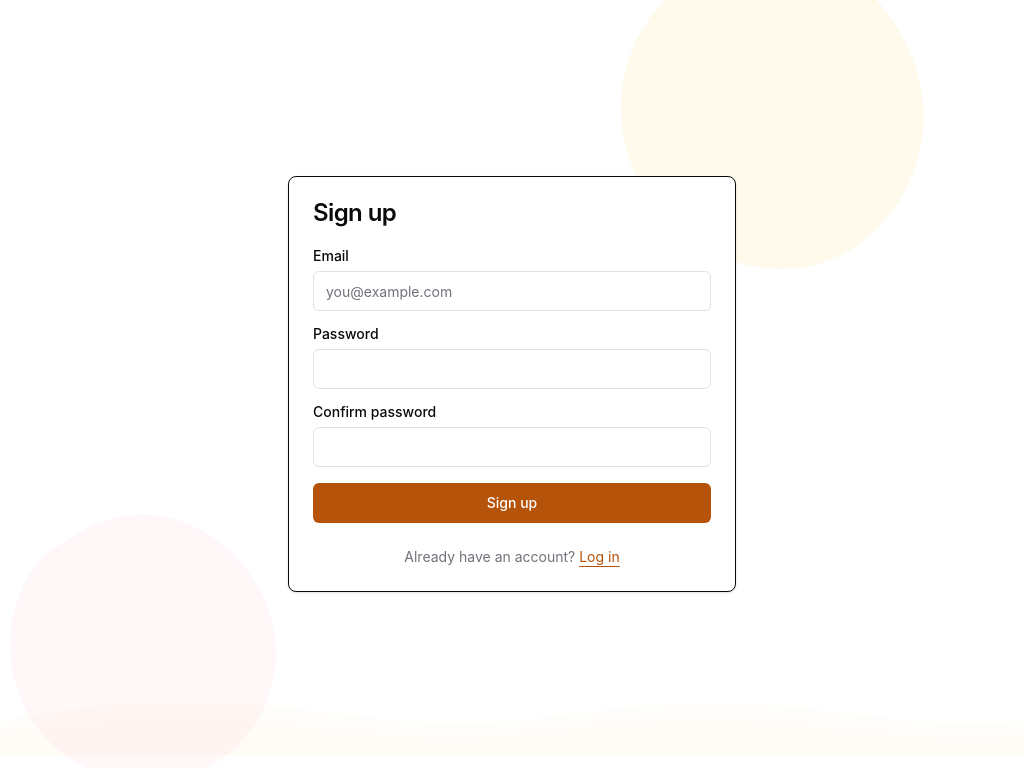
SignupView › shows error when passwords do not match
Type "test@test.com" into the field with id "signup-email" at [512, 291], box [313,271,711,311]
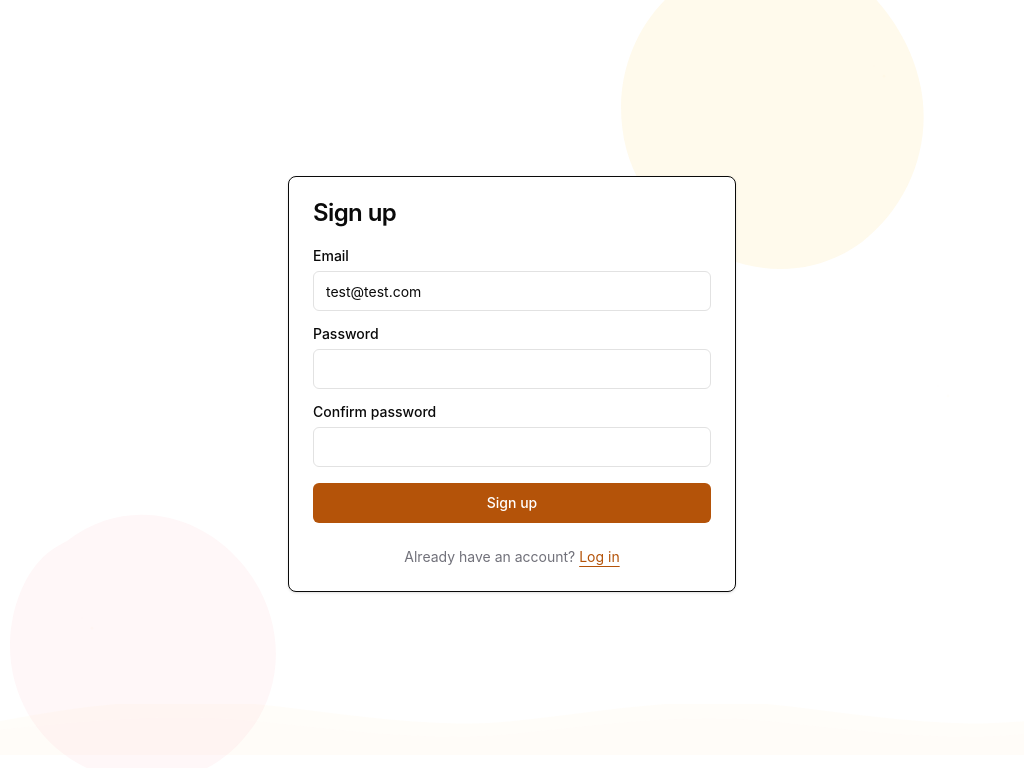
Type "Password1" into the password field with id "signup-password" at [512, 369], box [313,349,711,389]
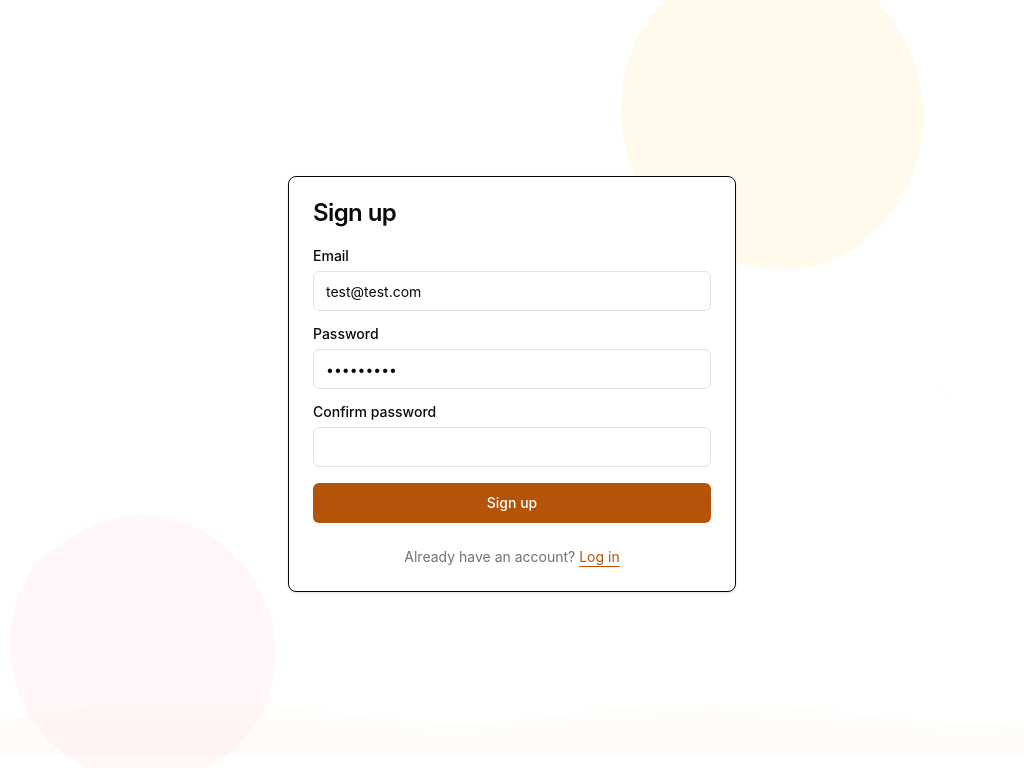
Type "Password2" into the password field with id "signup-confirm" at [512, 447], box [313,427,711,467]
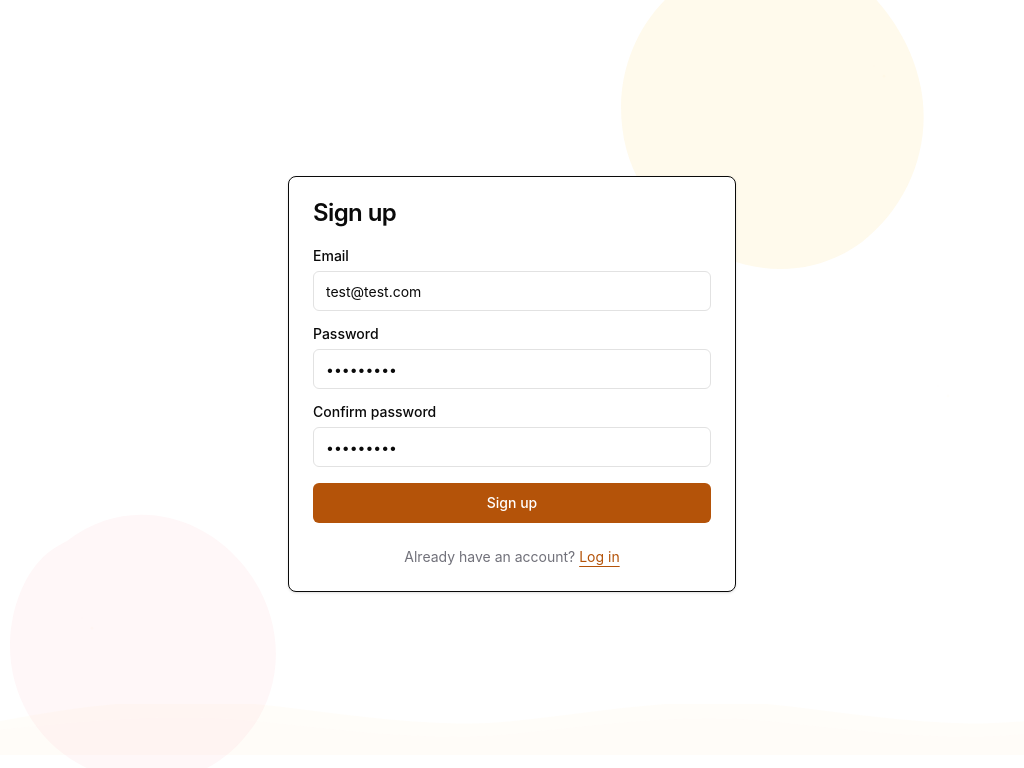
Submit the form, box [313,249,711,523]
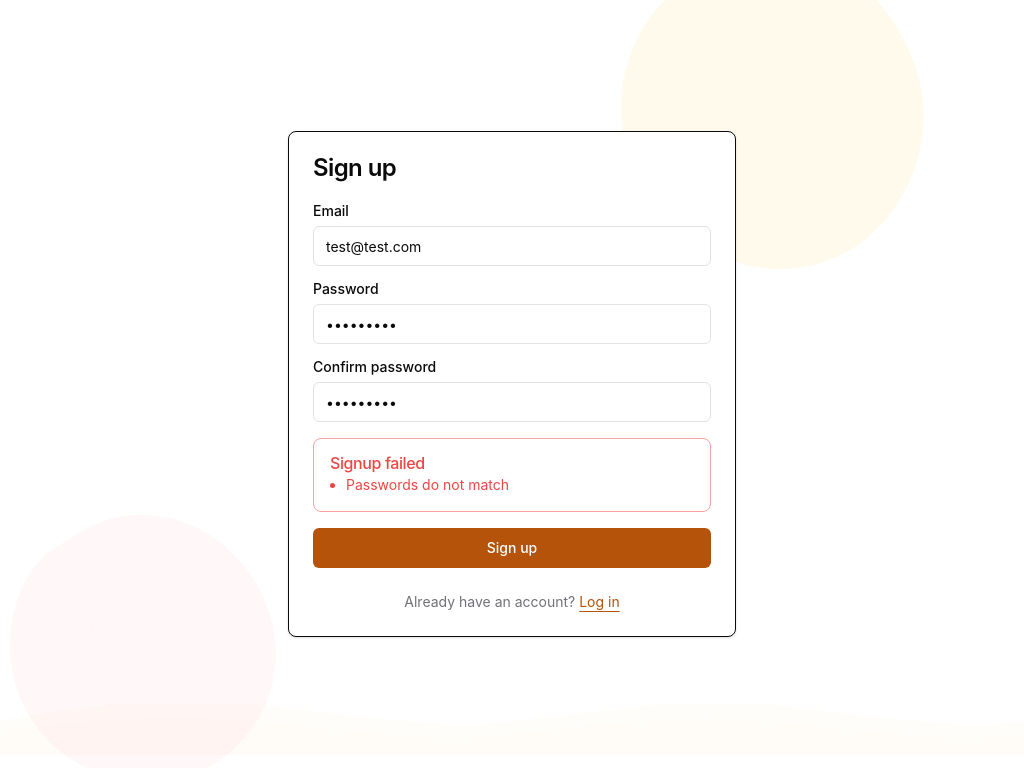
Now the message "Signup failed Passwords do not match" is shown, box [313,438,711,512]
